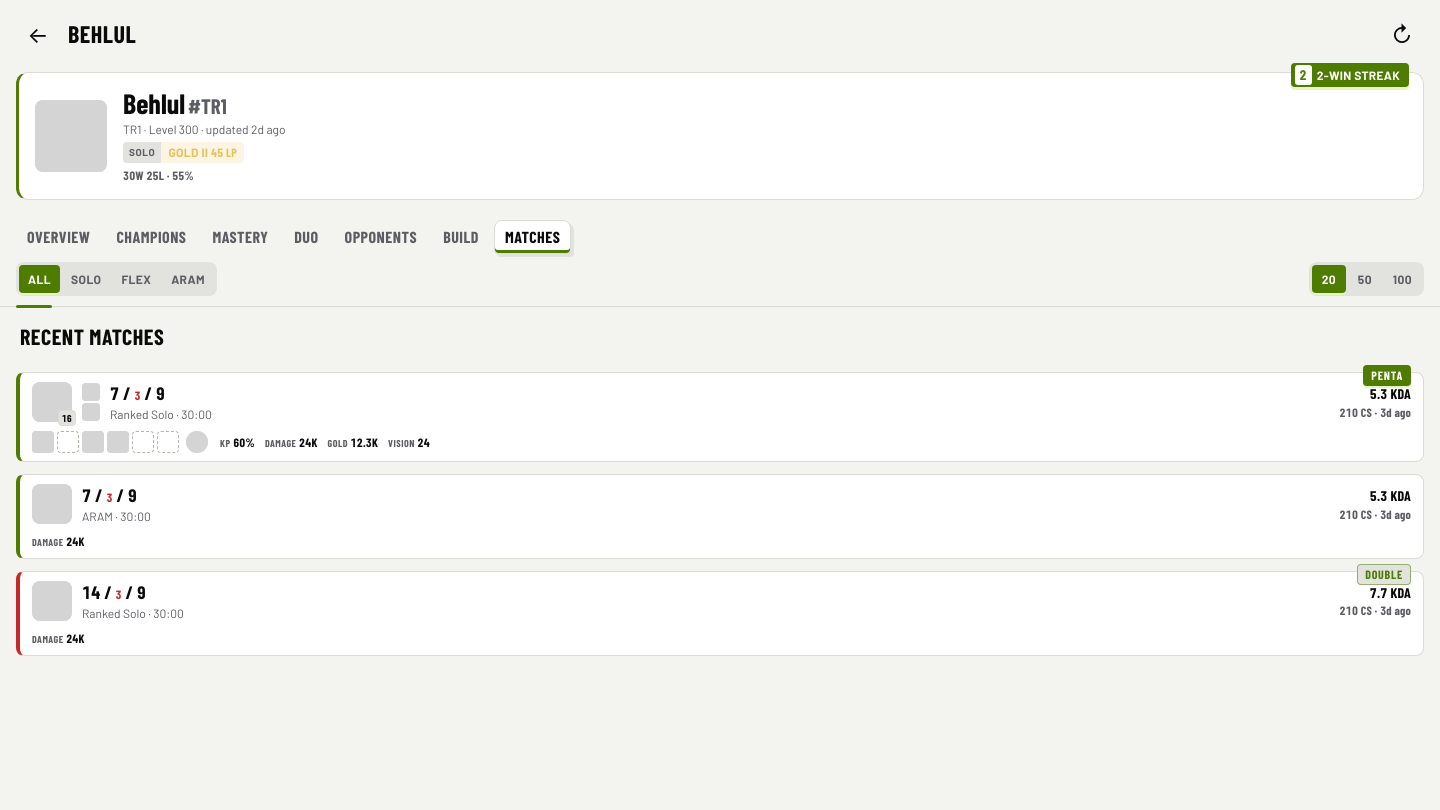
Scenario: League player page, older server (no stats endpoint) › filters the match list with the queue chips and the window
The image size is (1440, 810).
Expected: the number of links with test id "match-row" is 3, [16,372,1424,462]; [16,474,1424,559]; [16,571,1424,656]
Click the button "ARAM": (188, 279) [162,265,214,293]
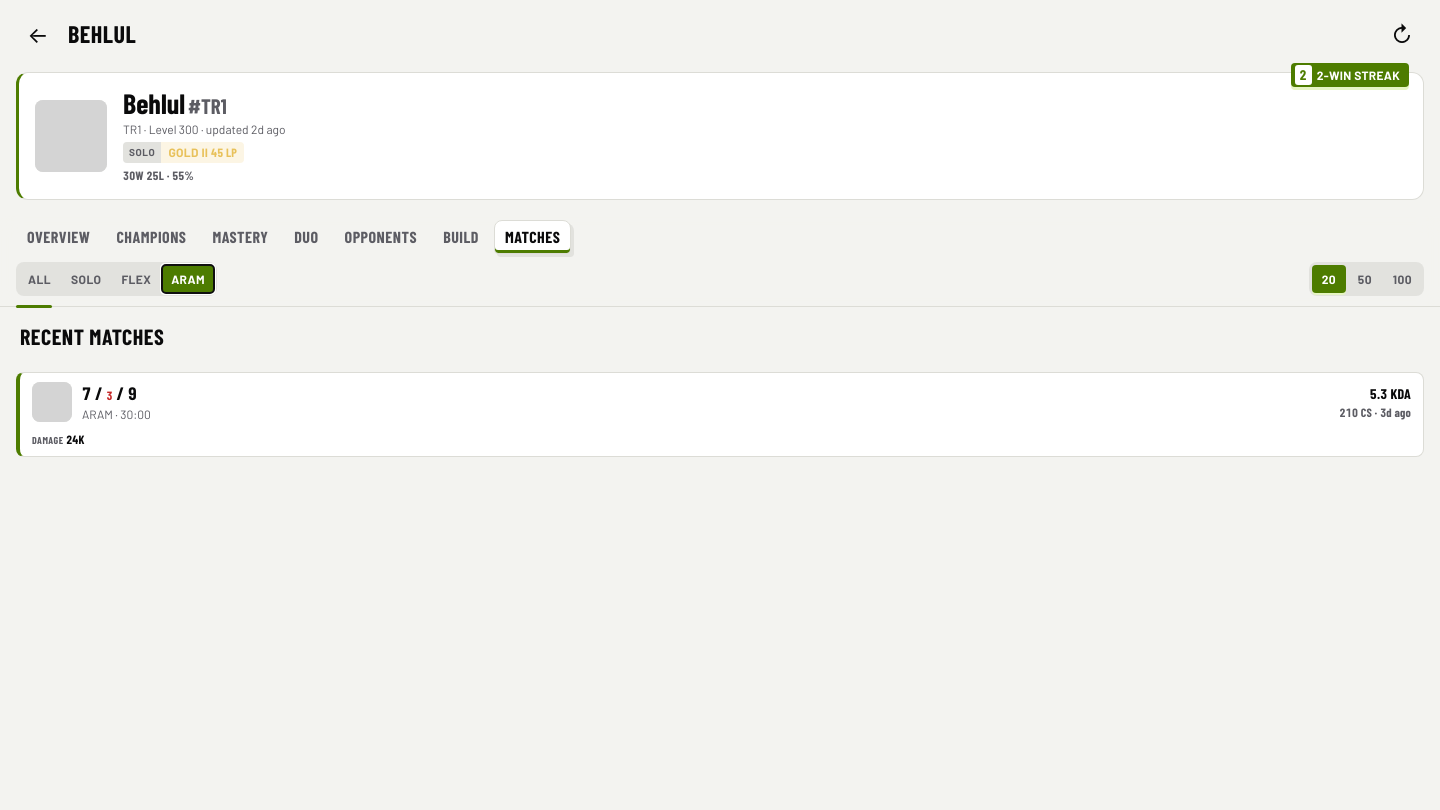
Result: the number of links with test id "match-row" is 1 at [16,372,1424,457]
Click the button "Flex": (136, 279) [112,265,160,293]
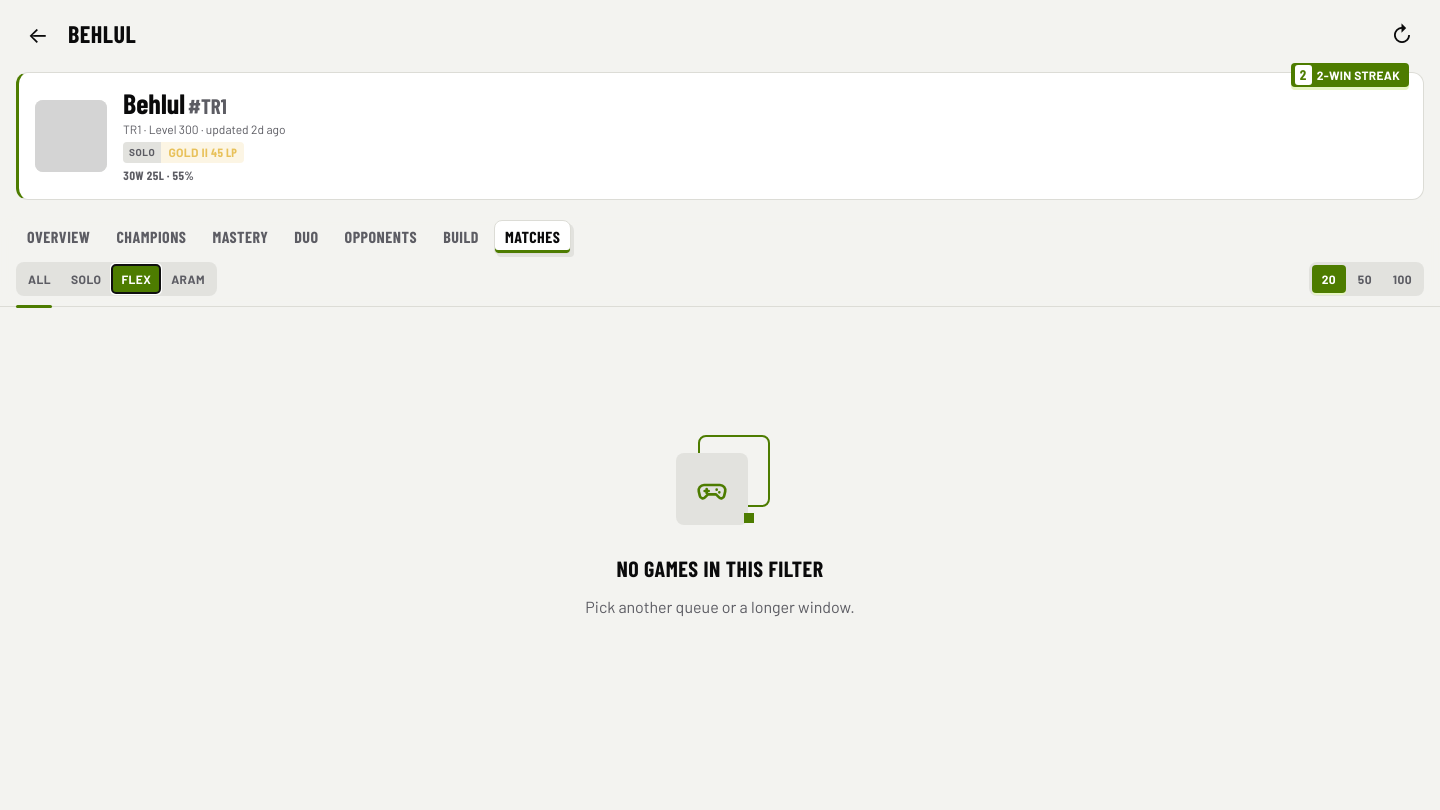
Result: no links with test id "match-row" are shown
Result: the heading "No games in this filter" is shown at [616,553,824,584]
